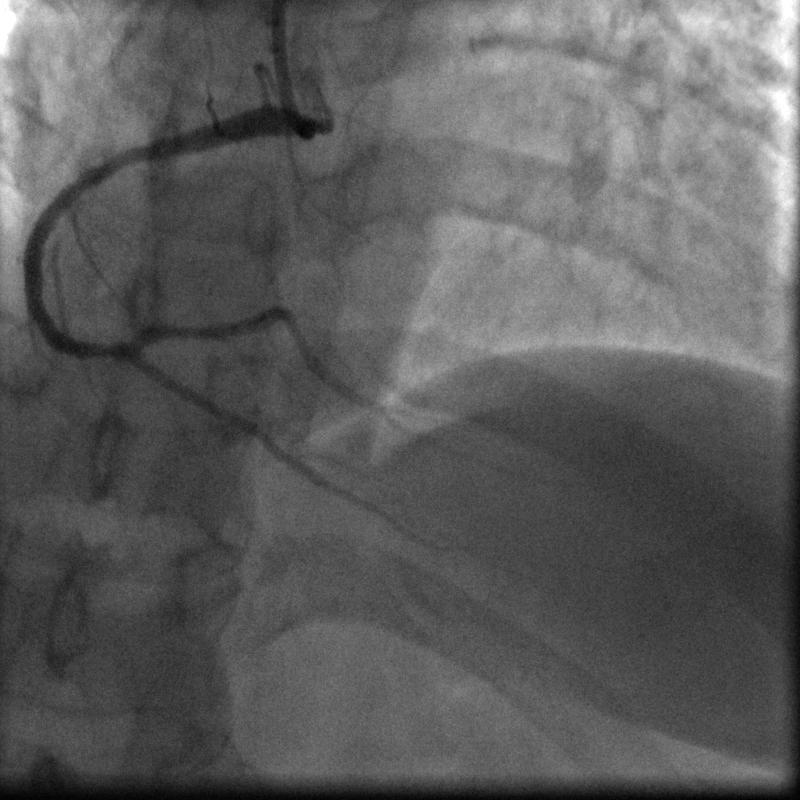Stenosis: (93, 336, 122, 358)
